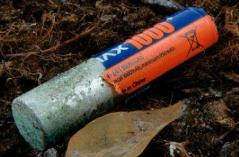electronic: (2, 3, 239, 151)
